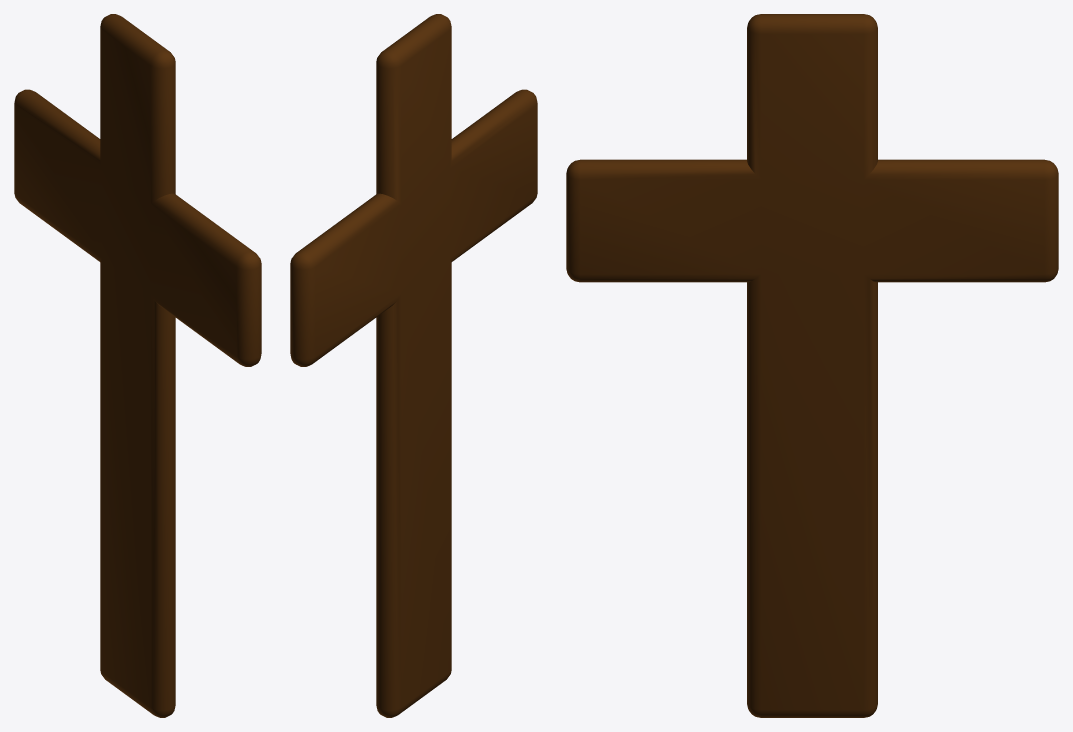
The model's file is Cross.glb.
3 views of the same model, side by side, from view 1: azimuth 30°, elevation 25°; view 2: azimuth 150°, elevation 25°; view 3: azimuth 270°, elevation 25° (orthographic). The views are drawn at different scales.
Parts seen in each view (by area): view 1: Cube.009; view 2: Cube.009; view 3: Cube.009.
Part boxes in pixels (box(x1,y1,x2,y2)): Cube.009: box(14, 14, 261, 717); Cube.009: box(290, 14, 537, 717); Cube.009: box(566, 14, 1058, 717).
Bounding box in the file's own units: 0.0221 × 0.5996 × 0.3817.
